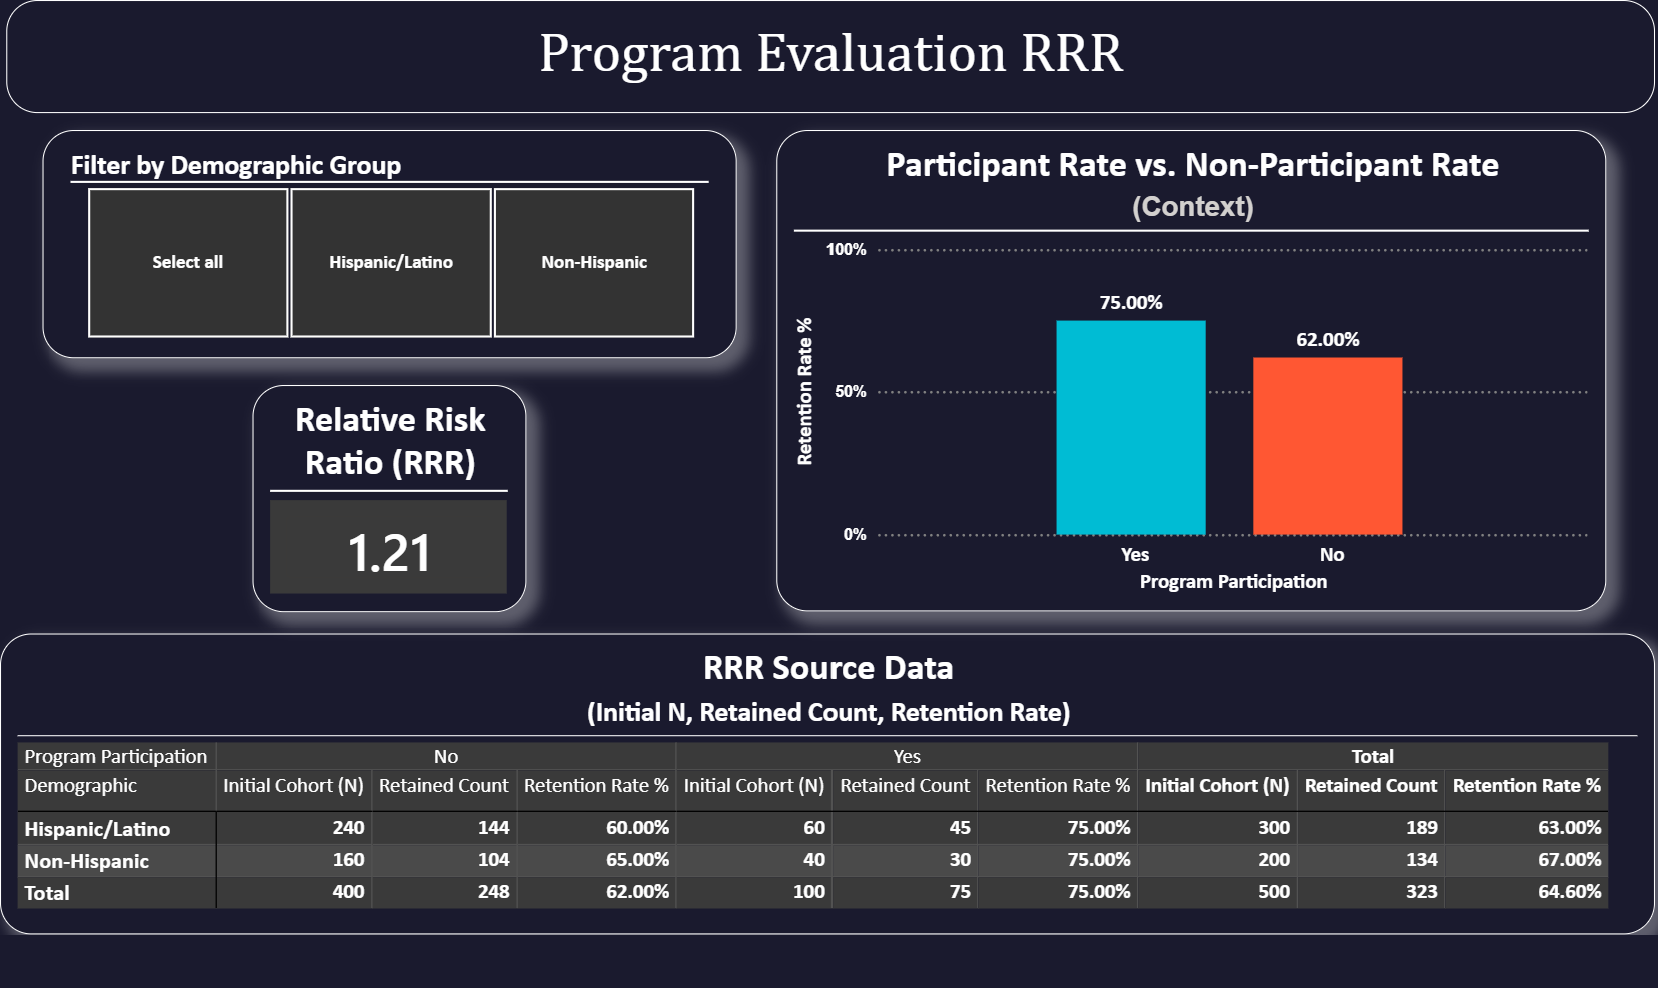

The dashboard page shown, as its layout file describes it:
{"tool":"powerbi","page":{"name":"Executive Compliance Summary","canvas":[1280,720],"ordinal":1},"visuals":[{"type":"textbox","box":[4.9,0,1270.5,86.8],"z":0},{"type":"cardVisual","title":"Relative Risk Ratio (RRR)","fields":{"Data":["public ie_program_evaluation_metrics.Program Effect Size RRR"]},"box":[194.4,296.6,210.9,174.7],"z":1000},{"type":"slicer","title":";kkl","fields":{"Values":["public ie_program_evaluation_metrics.demographic_group"]},"box":[33,100.5,535.5,176.3],"z":2000},{"type":"clusteredColumnChart","title":"Participant Rate vs. Non-Participant Rate","fields":{"Category":["public ie_program_evaluation_metrics.program_participated"],"Y":["public ie_program_evaluation_metrics.Retention Rate %"]},"box":[598.1,100.5,639.3,370.8],"z":3000},{"type":"pivotTable","title":"RRR Source Data","fields":{"Rows":["public ie_program_evaluation_metrics.demographic_group"],"Columns":["public ie_program_evaluation_metrics.program_participated"],"Values":["public ie_program_evaluation_metrics.Initial Cohort (N)","public ie_program_evaluation_metrics.Retained Count","public ie_program_evaluation_metrics.Retention Rate %"]},"box":[0,487.7,1275.4,232.3],"z":4001}]}

Visuals, with their boxes on the page's 1280x720 design canvas (x1, y1, x2, y2). These are canvas units, not pixel positions in the 1658x988 screenshot, which may show the page scaled, cropped or inside an application window:
textbox: <bbox>5, 0, 1275, 87</bbox>
"Relative Risk Ratio (RRR)" cardVisual: <bbox>194, 297, 405, 471</bbox>
";kkl" slicer: <bbox>33, 100, 568, 277</bbox>
"Participant Rate vs. Non-Participant Rate" clusteredColumnChart: <bbox>598, 100, 1237, 471</bbox>
"RRR Source Data" pivotTable: <bbox>0, 488, 1275, 720</bbox>
